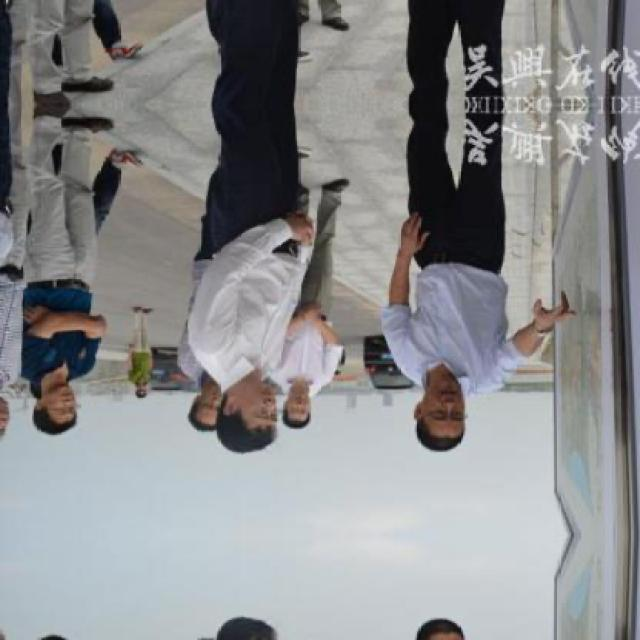sin casco: (406, 374, 486, 456), (27, 381, 108, 441), (212, 386, 282, 451), (276, 387, 346, 431)
